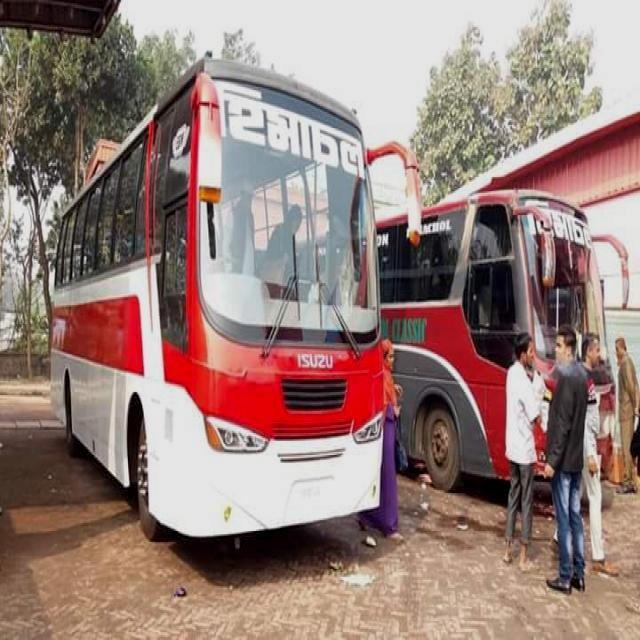bus: (52, 58, 424, 547), (377, 189, 631, 492)
